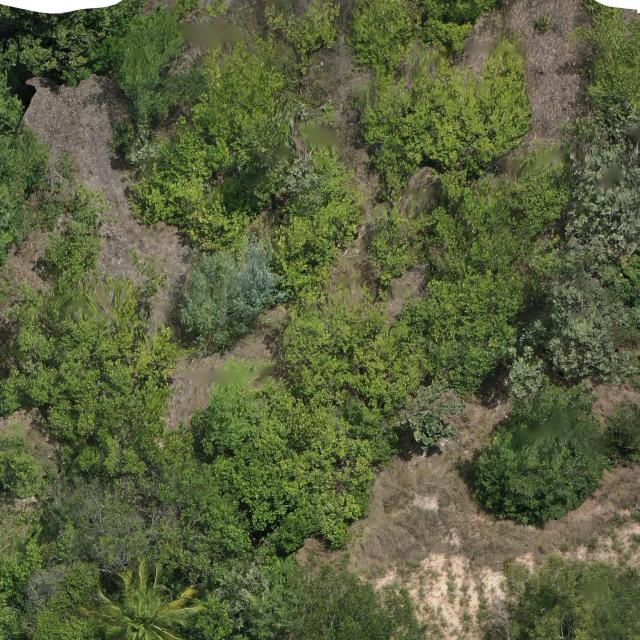Tree: (124, 28, 311, 256), (185, 359, 379, 557), (6, 273, 181, 487), (358, 32, 533, 204), (366, 166, 574, 287), (271, 290, 434, 426), (466, 379, 611, 529), (547, 90, 640, 265), (285, 551, 452, 640), (174, 245, 288, 350), (70, 555, 204, 640), (513, 551, 640, 640), (533, 264, 632, 378), (562, 11, 640, 108), (416, 0, 525, 63), (346, 0, 418, 71), (0, 420, 48, 499)
